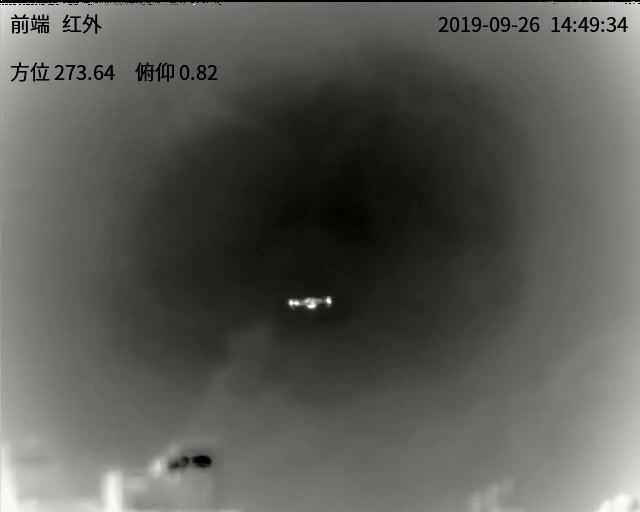DRONE: (288, 295, 332, 310)
